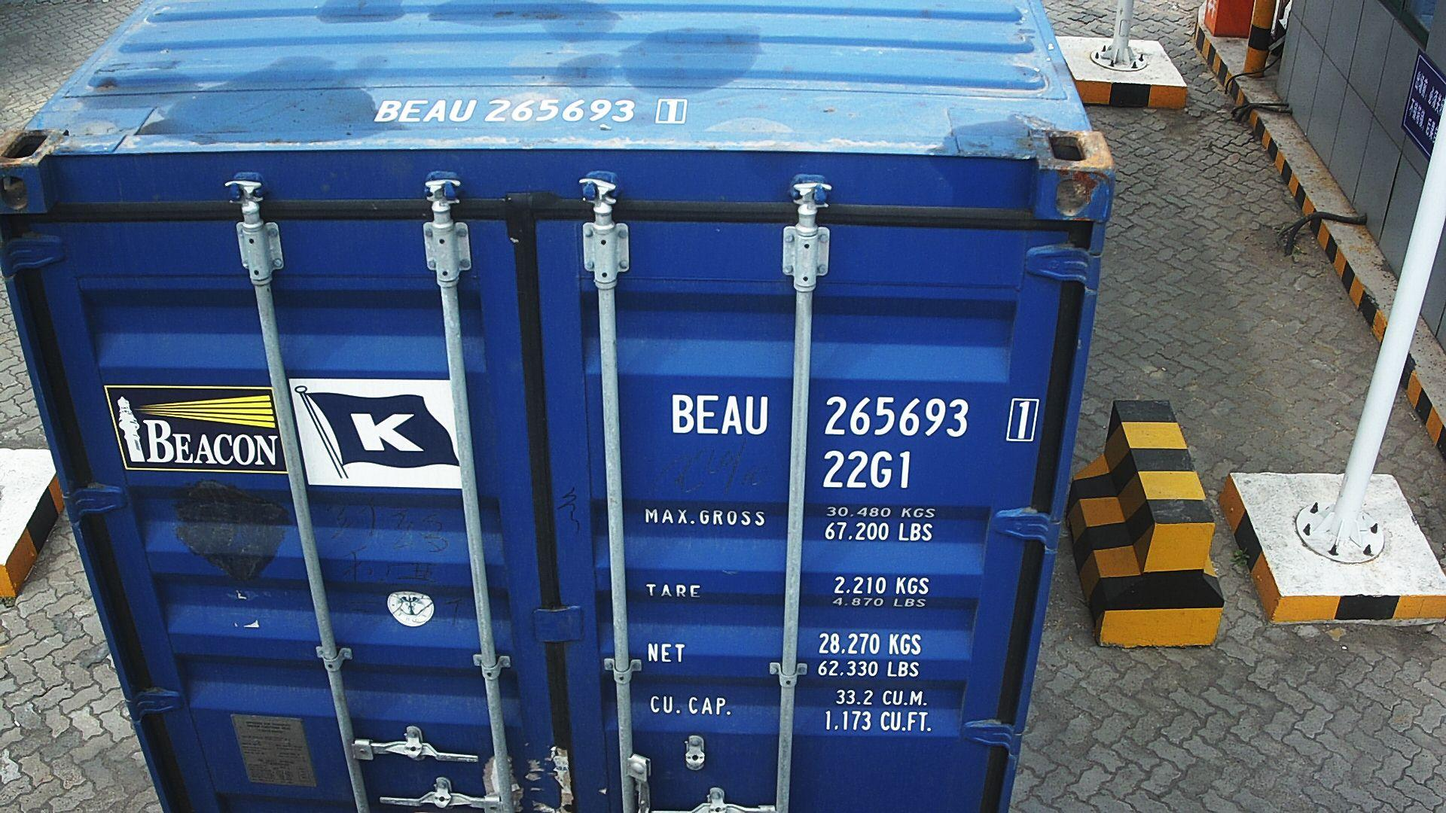container-numbers: (667, 390, 1043, 443), (364, 93, 696, 127), (819, 447, 915, 492)
